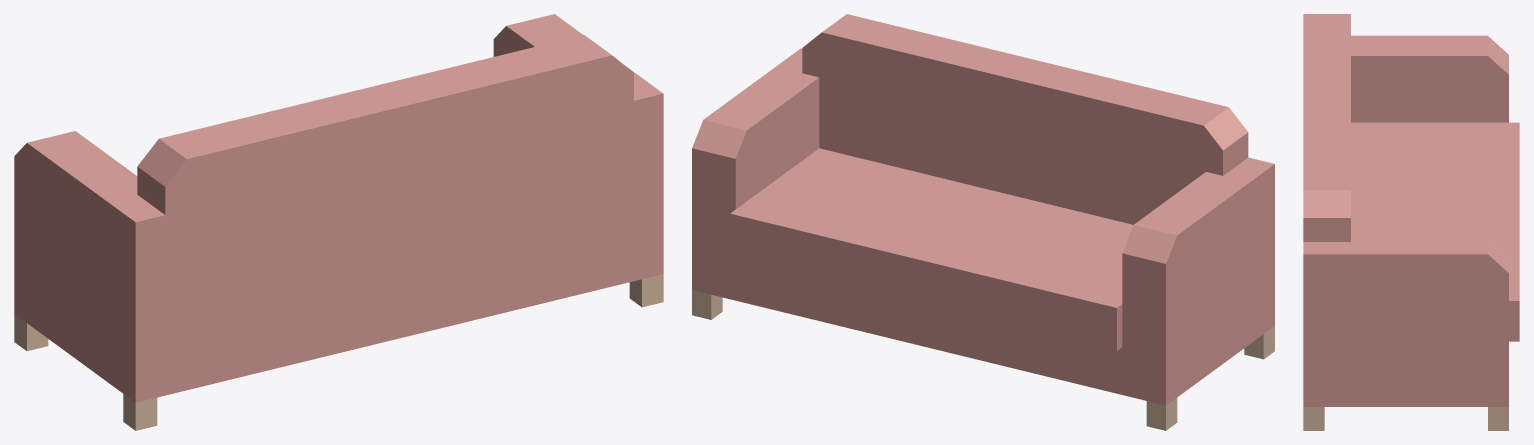
Rendered from lounge_sofa.glb.
3 views of the same model, side by side, from view 1: azimuth 30°, elevation 25°; view 2: azimuth 150°, elevation 25°; view 3: azimuth 270°, elevation 25° (orthographic). The views are drawn at different scales.
Visible parts, largest first — view 1: loungeSofa(Clone); view 2: loungeSofa(Clone); view 3: loungeSofa(Clone).
Boxes of the visible parts, <box> form: loungeSofa(Clone): <box>14,14,663,430</box>; loungeSofa(Clone): <box>692,14,1274,430</box>; loungeSofa(Clone): <box>1303,14,1519,430</box>.
Size of the model in its own units: 2.06 by 0.966 by 0.861.
